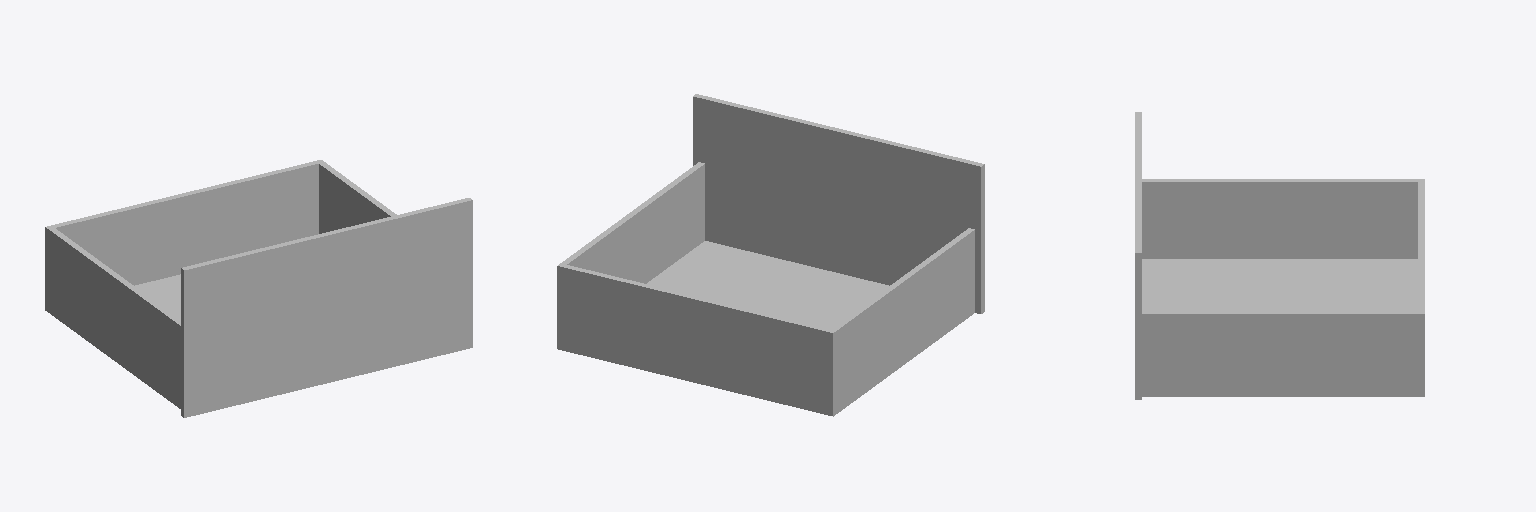
The model's file is KitchenOPEN_Export-29.obj.
3 renders of one model, left to right at view 1: azimuth 30°, elevation 25°; view 2: azimuth 150°, elevation 25°; view 3: azimuth 270°, elevation 25°, orthographic.
Visible parts, largest first — view 1: KitchenOPEN_Export-29; view 2: KitchenOPEN_Export-29; view 3: KitchenOPEN_Export-29.
Boxes of the visible parts, <box> form: KitchenOPEN_Export-29: <box>45,160,472,417</box>; KitchenOPEN_Export-29: <box>557,94,984,416</box>; KitchenOPEN_Export-29: <box>1135,112,1424,399</box>.
Bounding box in the file's own units: 47 × 23 × 41.